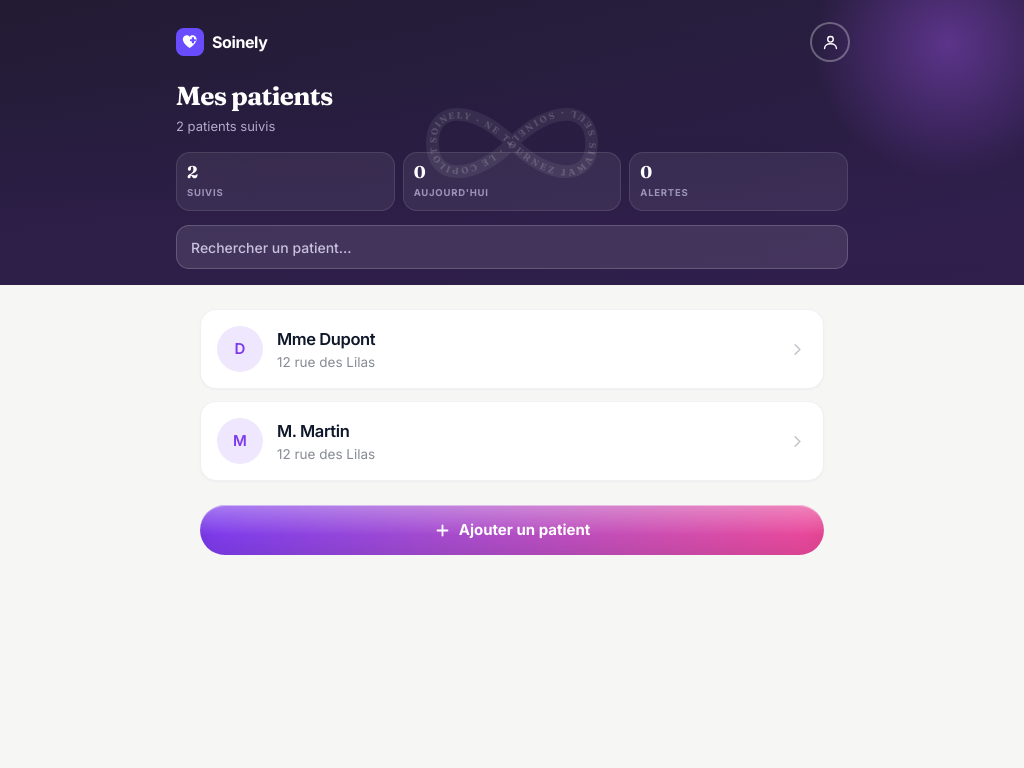
ListePatients › filtre la liste depuis le champ de recherche de l'en-tête
In the search field labelled "Rechercher un patient": (512, 247) x1=176 y1=225 x2=848 y2=269, type "Martin"
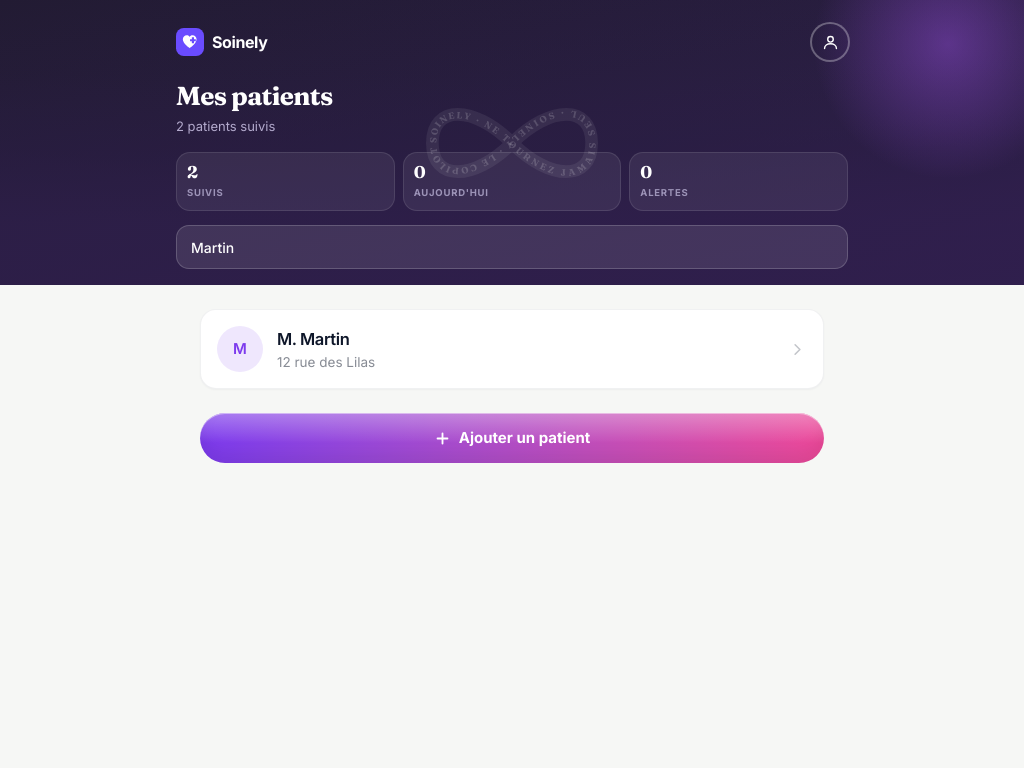
Check: the text "M. Martin" is shown, box x1=277 y1=329 x2=349 y2=349
Check: the link "Mme Dupont" is gone
